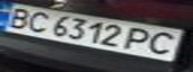1: (84, 19, 106, 46)
2: (103, 21, 127, 50)
3: (63, 16, 87, 42)
6: (45, 12, 72, 38)
B: (0, 4, 36, 29)
C: (142, 29, 187, 56), (21, 8, 54, 34)
P: (124, 25, 160, 53)
